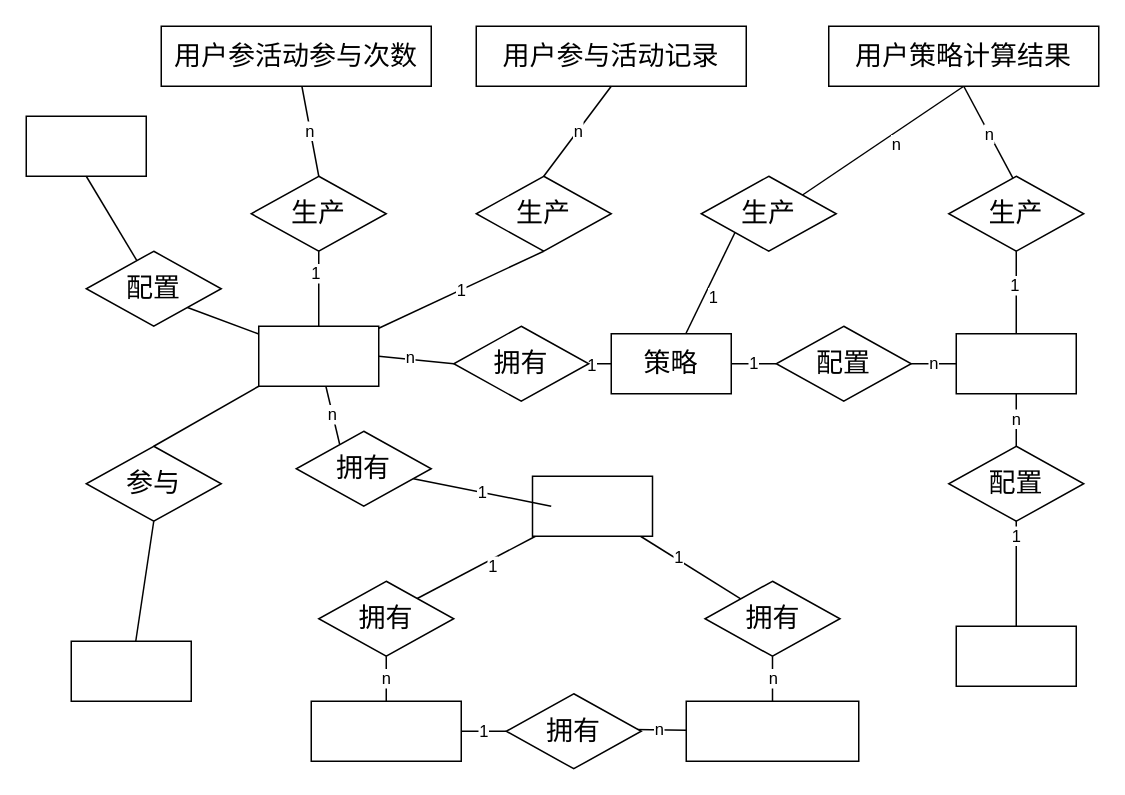
This 1125x795 diagram has some shape labels left out. The shapes that lost their labels are listed below. From the top down, each one's centre as x and y in pixels, then its label:
At [85,145]: "运营人员".
At [318,355]: "活动".
At [1015,363]: "策略详情".
At [591,505]: "规则树".
At [130,670]: "用户".
At [1015,655]: "奖品".
At [385,730]: "规则树节点".
At [772,730]: "规则树关系链".
